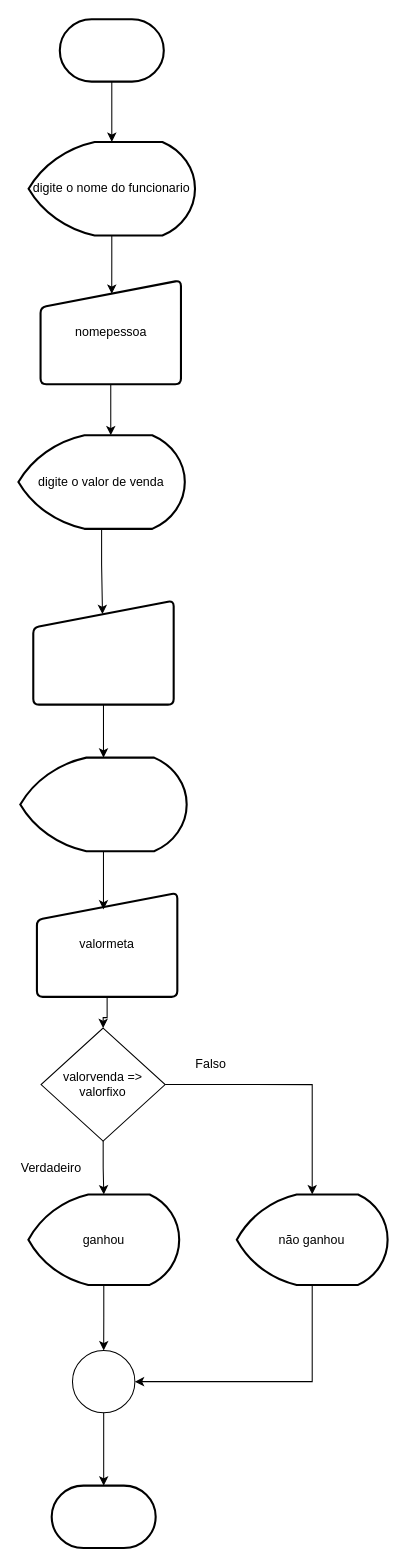
This 407x1566 diagram has some shape labels left out. The shapes that lost their labels are listed below. From the top down, each one's centre as x and y in pixels, then its label:
pixel 111 50: Inicio
pixel 103 652: valorvenda
pixel 103 804: digite o valor da meta
pixel 103 1516: Fim
